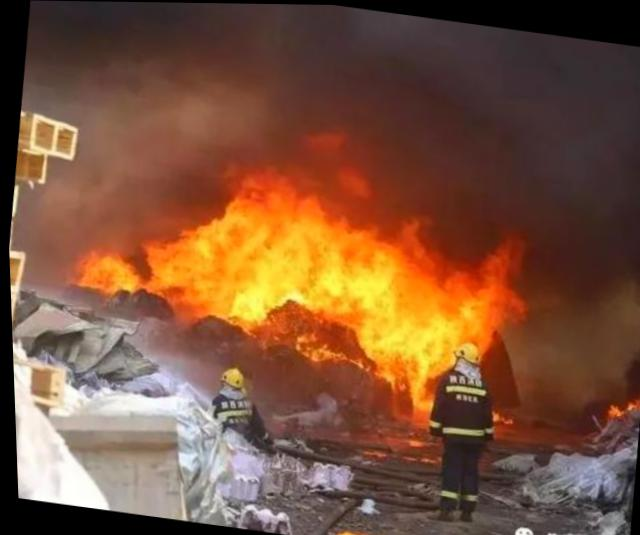fire: (56, 116, 536, 425)
